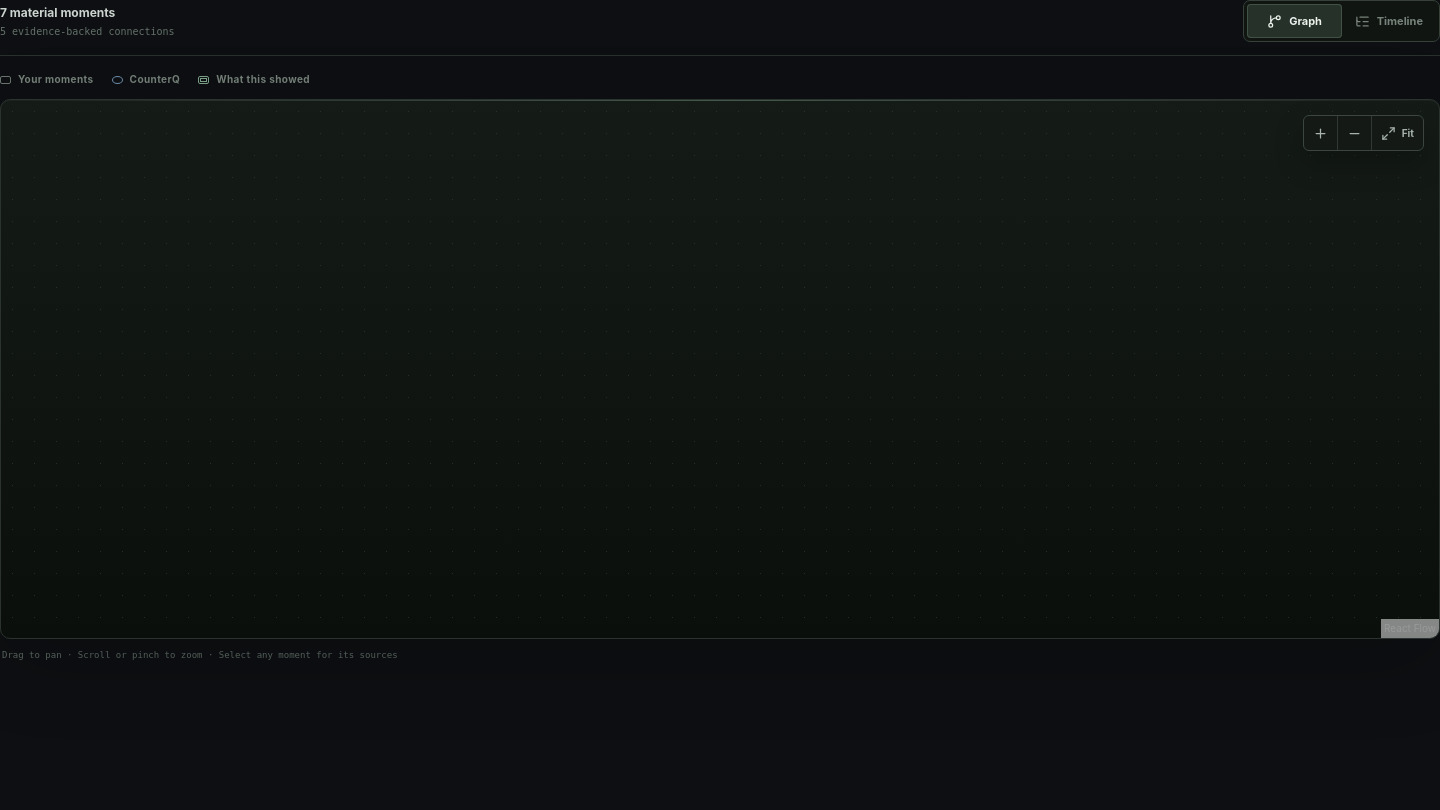
Test: Stage 7B interactive CounterMap › closes the drawer with Escape and restores focus to the selected node control
Click the button "Timeline".
click(1389, 21)  # box [1342, 4, 1436, 38]
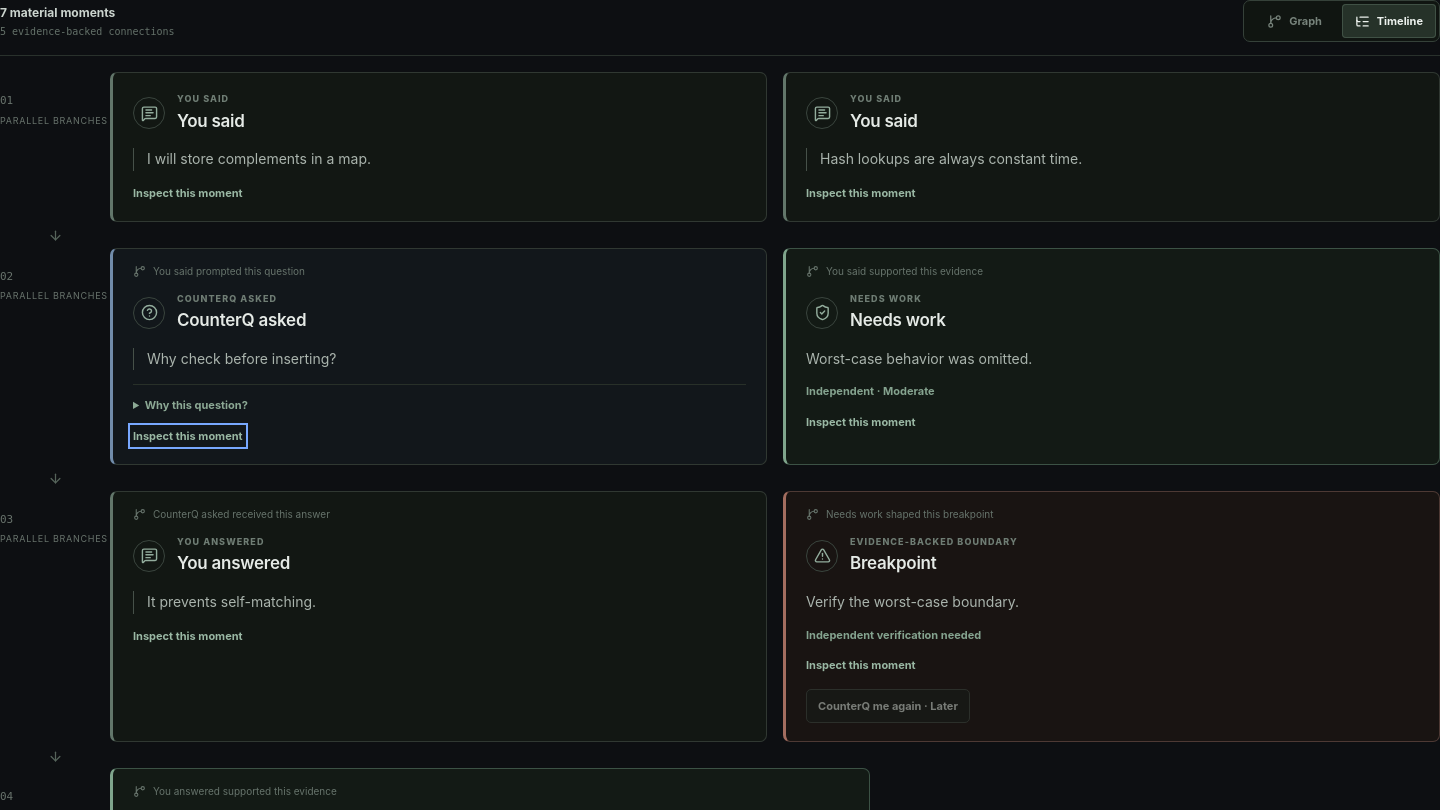
Click the button with aria-label "Inspect this moment: CounterQ asked".
click(188, 436)  # box [133, 428, 243, 444]
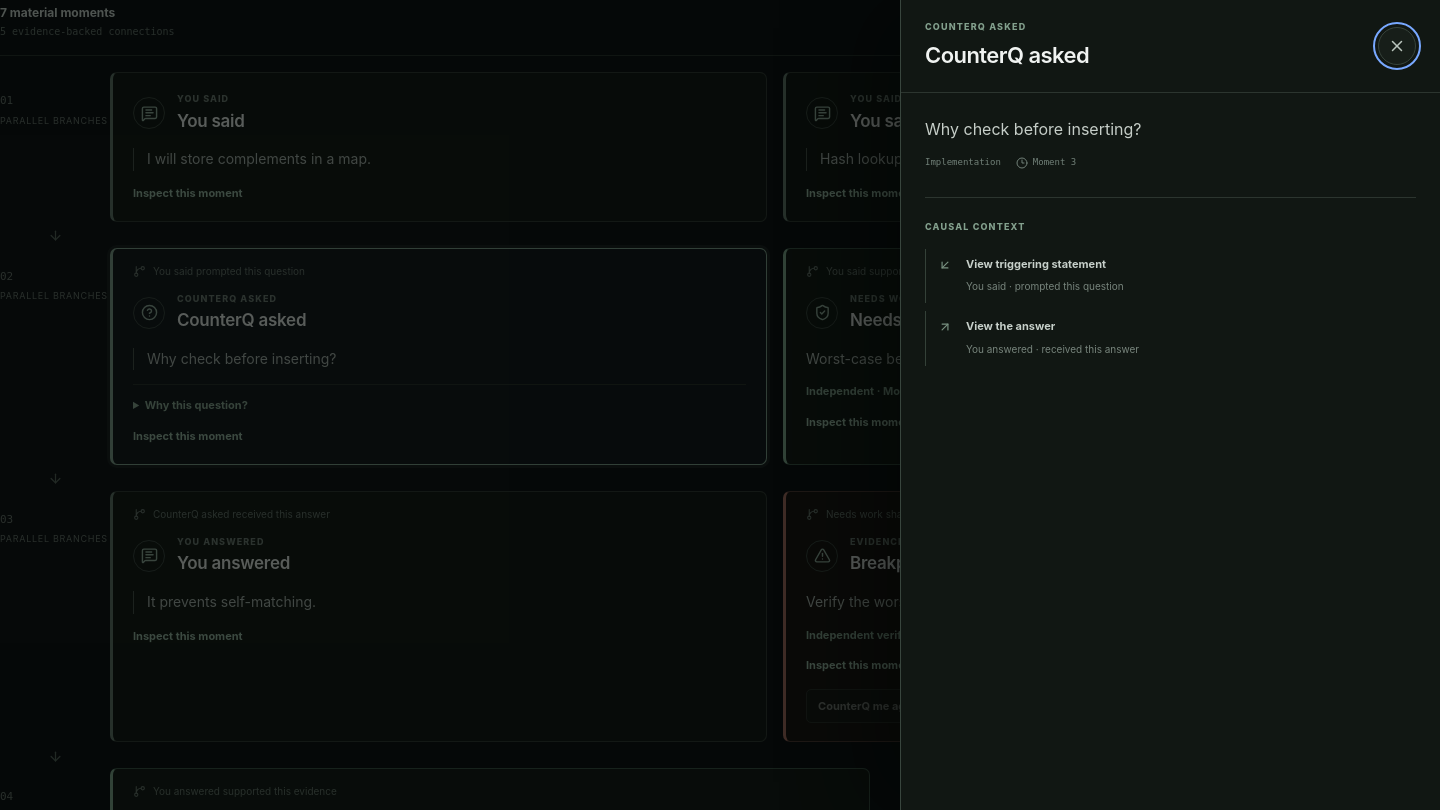
Press Tab
Press Escape
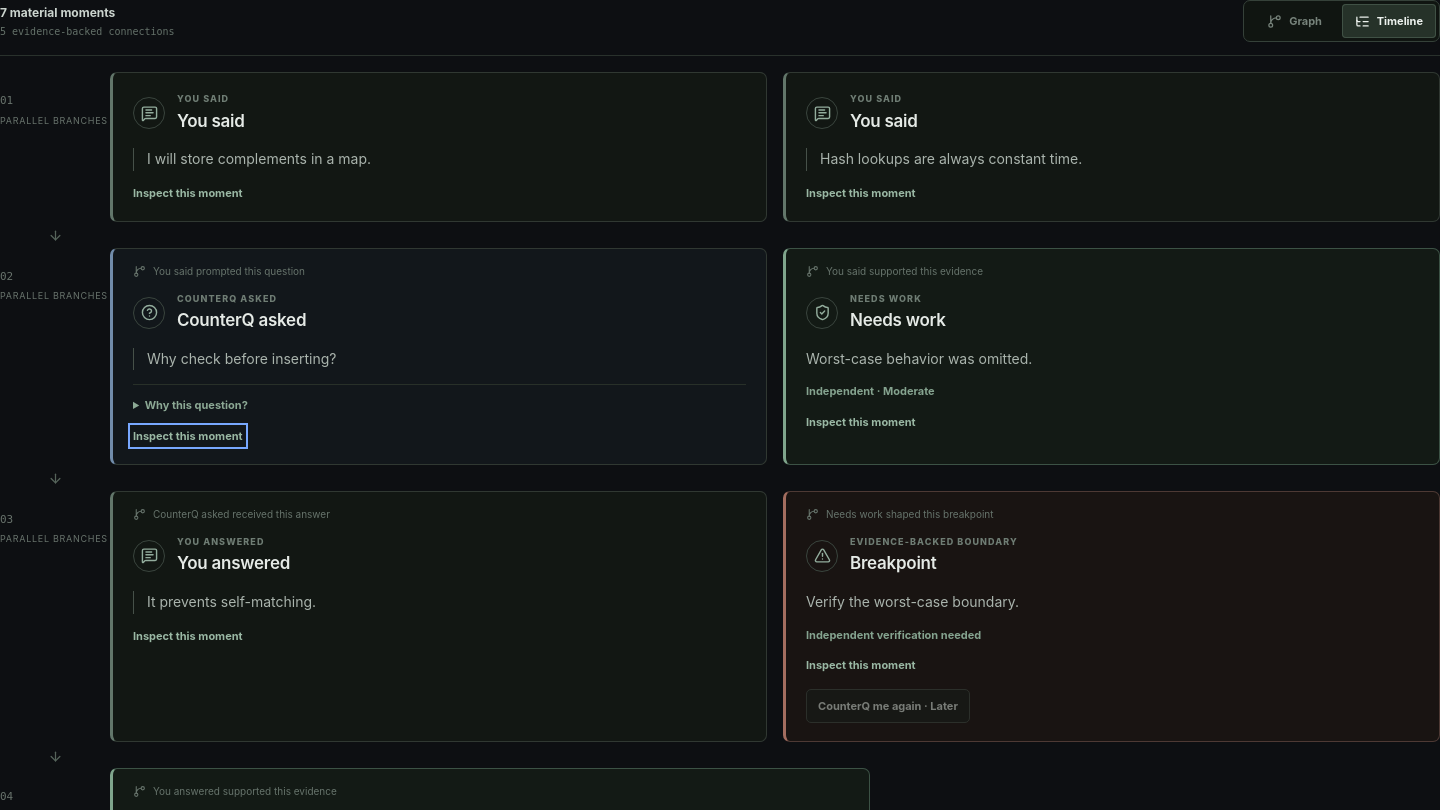
Expected: the dialog is gone
